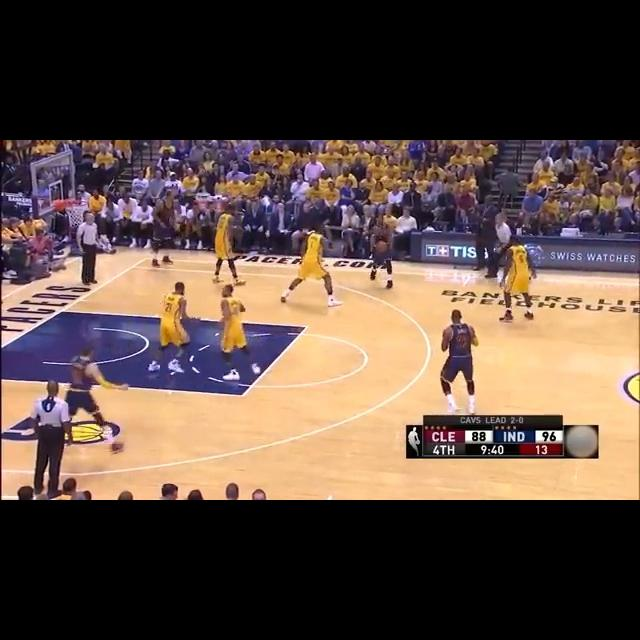basketball: (374, 238, 389, 257)
hoop: (59, 196, 89, 226)
